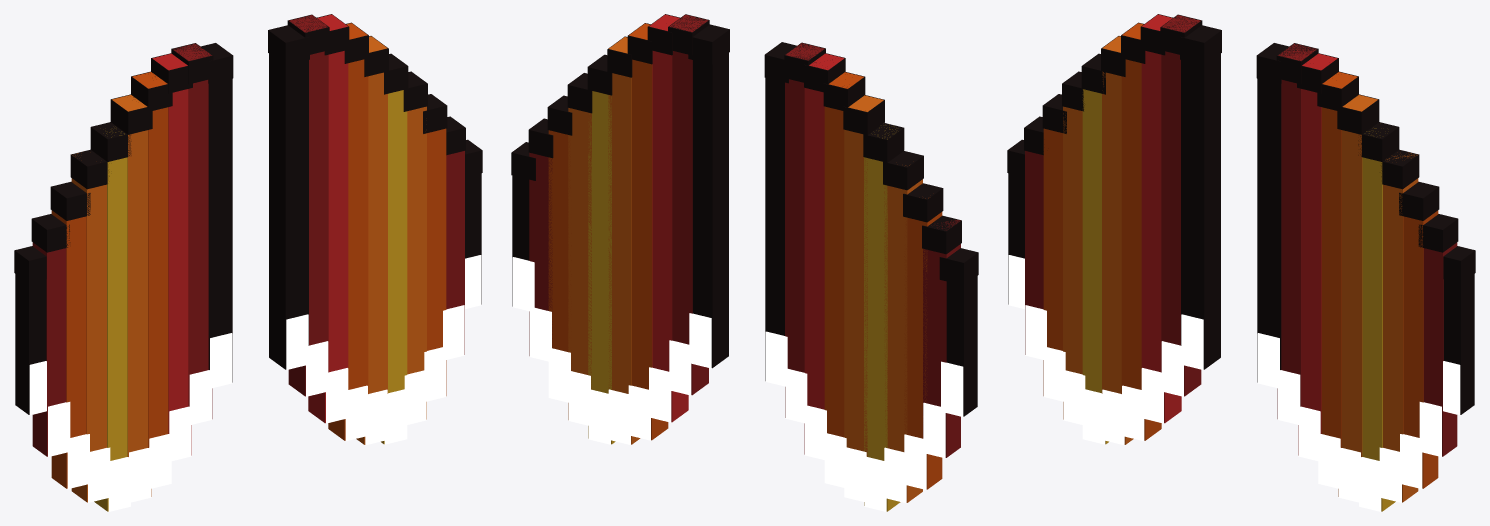
File: elytra_phoenix.glb
The picture shows the model from 3 angles, left to right: view 1: azimuth 30°, elevation 25°; view 2: azimuth 150°, elevation 25°; view 3: azimuth 330°, elevation 25°; orthographic projection.
Parts seen in each view (by area): view 1: Wing_R_m, Wing_L_m, Wing_R_emit, Wing_L_emit; view 2: Wing_L_m, Wing_R_m, Wing_L_emit, Wing_R_emit; view 3: Wing_L_m, Wing_R_m, Wing_L_emit, Wing_R_emit.
Part boxes in pixels (x1,y1,x2,y2): Wing_R_m: (14,43,233,511); Wing_L_m: (268,14,482,444); Wing_R_emit: (29,333,232,511); Wing_L_emit: (286,255,481,444); Wing_L_m: (511,14,729,444); Wing_R_m: (764,42,978,511); Wing_L_emit: (512,257,711,444); Wing_R_emit: (765,331,963,511); Wing_L_m: (1256,43,1475,511); Wing_R_m: (1007,14,1221,444); Wing_L_emit: (1257,333,1460,511); Wing_R_emit: (1008,255,1203,444).
Size of the model in its own units: 1.04 by 0.95 by 0.075.
